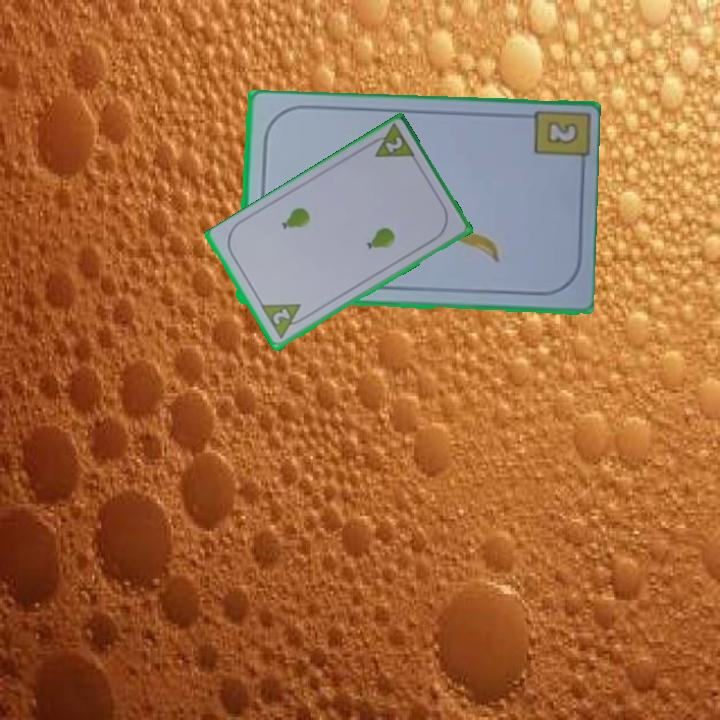2b: (546, 121, 578, 145)
2p: (363, 121, 418, 162), (269, 305, 293, 328)
